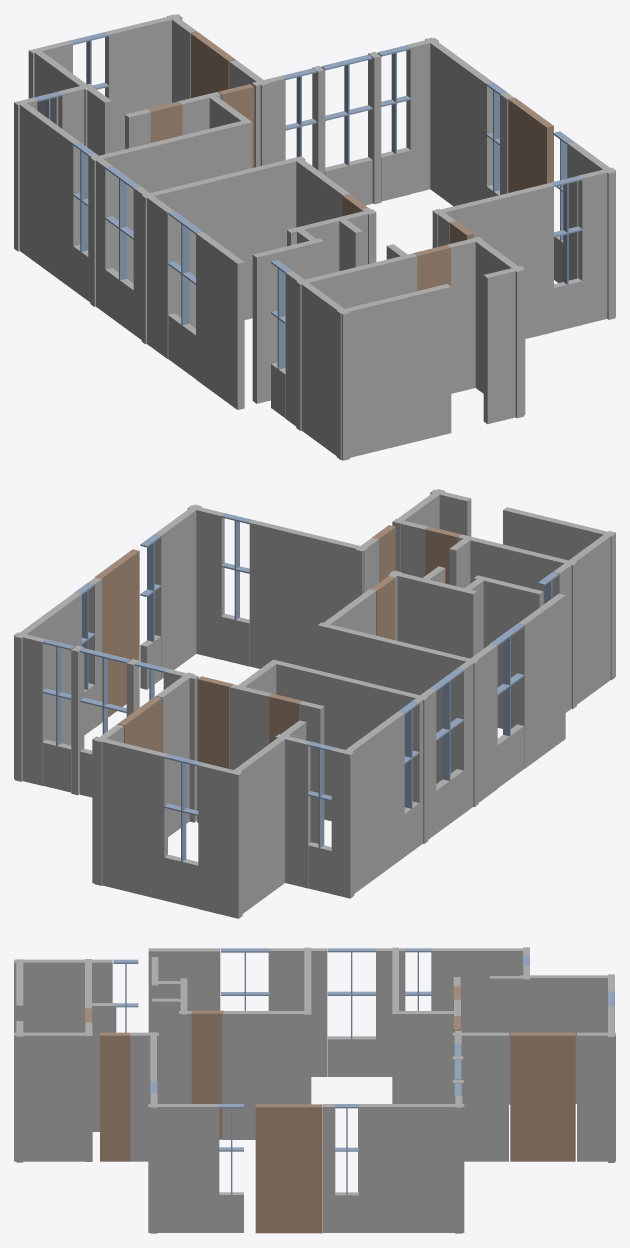
Rendered from job_9.glb.
3 renders of one model, top to bottom at view 1: azimuth 30°, elevation 25°; view 2: azimuth 150°, elevation 25°; view 3: azimuth 270°, elevation 25°, orthographic. The views are drawn at different scales.
Visible parts, largest first — view 1: walls, door_5, window_1, window_0, window_3, window_4, window_8, door_4, window_2, window_7, door_3, door_6 (+4 smaller); view 2: walls, door_5, door_0, window_11, window_0, window_1, window_4, window_8, window_9, window_6, window_2, door_4 (+6 smaller); view 3: walls, door_5, door_4, door_2, door_1, window_0, window_6, window_5, window_1.
Boxes of the visible parts, bbox=[...] form: walls: bbox=[14, 14, 615, 460]; door_5: bbox=[508, 97, 553, 192]; window_1: bbox=[168, 210, 202, 378]; window_0: bbox=[105, 165, 139, 333]; window_3: bbox=[321, 54, 372, 205]; window_4: bbox=[377, 45, 410, 201]; window_8: bbox=[550, 176, 582, 331]; door_4: bbox=[190, 31, 235, 97]; window_2: bbox=[73, 142, 94, 300]; window_7: bbox=[271, 260, 292, 418]; door_3: bbox=[413, 245, 450, 290]; door_6: bbox=[147, 101, 182, 142]; walls: bbox=[14, 489, 615, 918]; door_5: bbox=[94, 549, 139, 721]; door_0: bbox=[197, 676, 232, 822]; window_11: bbox=[164, 754, 202, 908]; window_0: bbox=[430, 668, 463, 833]; window_1: bbox=[490, 623, 524, 787]; window_4: bbox=[42, 639, 74, 792]; window_8: bbox=[221, 513, 252, 666]; window_9: bbox=[307, 741, 335, 893]; window_6: bbox=[140, 534, 160, 689]; window_2: bbox=[398, 701, 419, 856]; door_4: bbox=[118, 696, 161, 752]; walls: bbox=[14, 947, 615, 1233]; door_5: bbox=[255, 1104, 322, 1233]; door_4: bbox=[510, 1032, 575, 1161]; door_2: bbox=[100, 1032, 130, 1161]; door_1: bbox=[191, 1010, 223, 1139]; window_0: bbox=[327, 948, 375, 1076]; window_6: bbox=[219, 1104, 243, 1232]; window_5: bbox=[335, 1104, 358, 1232]; window_1: bbox=[221, 948, 269, 1010].
Size of the model in its own units: 8.19 by 3 by 13.
